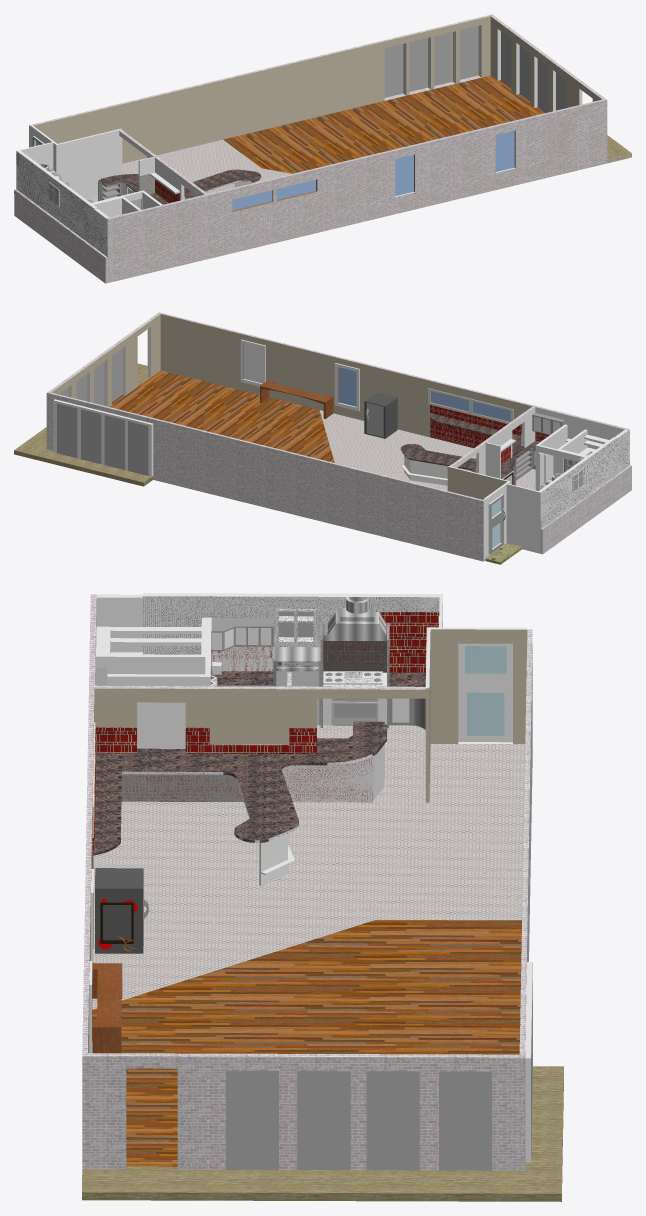
The model's file is Restaurant.glb.
The picture shows the model from 3 angles, top to bottom: view 1: azimuth 30°, elevation 25°; view 2: azimuth 150°, elevation 25°; view 3: azimuth 270°, elevation 25°; orthographic projection. The views are drawn at different scales.
Parts seen in each view (by area): view 1: SketchUp.181, SketchUp.060, SketchUp.275, SketchUp.022, SketchUp.044, SketchUp.129, SketchUp.247, SketchUp.263, SketchUp.107, SketchUp.183, SketchUp.103, SketchUp.182 (+9 smaller); view 2: SketchUp.247, SketchUp.060, SketchUp.275, SketchUp.022, SketchUp.129, SketchUp.044, SketchUp.263, SketchUp.065, SketchUp.107, SketchUp.130, SketchUp.182, SketchUp.103 (+19 smaller); view 3: SketchUp.129, SketchUp.275, SketchUp.247, SketchUp.065, SketchUp.060, SketchUp.022, SketchUp.107, SketchUp.045, SketchUp.255, SketchUp.128, SketchUp.054, SketchUp.236 (+17 smaller).
Boxes of the visible parts, x1,y1,x2,y2 form: SketchUp.181: [105, 100, 607, 283]; SketchUp.060: [33, 16, 602, 163]; SketchUp.275: [223, 75, 544, 173]; SketchUp.022: [16, 125, 204, 218]; SketchUp.044: [16, 151, 107, 256]; SketchUp.129: [85, 139, 291, 201]; SketchUp.247: [29, 14, 606, 219]; SketchUp.263: [14, 190, 107, 283]; SketchUp.107: [99, 169, 261, 204]; SketchUp.183: [384, 44, 403, 97]; SketchUp.103: [434, 32, 452, 85]; SketchUp.182: [460, 26, 478, 79]; SketchUp.247: [46, 312, 629, 561]; SketchUp.060: [51, 314, 531, 499]; SketchUp.275: [110, 370, 334, 462]; SketchUp.022: [448, 407, 627, 561]; SketchUp.129: [319, 410, 535, 490]; SketchUp.044: [540, 429, 629, 528]; SketchUp.263: [540, 465, 631, 554]; SketchUp.065: [14, 363, 153, 486]; SketchUp.107: [400, 413, 539, 478]; SketchUp.130: [53, 399, 153, 476]; SketchUp.182: [57, 403, 77, 458]; SketchUp.103: [81, 409, 101, 463]; SketchUp.129: [92, 725, 525, 1009]; SketchUp.275: [92, 920, 521, 1166]; SketchUp.247: [82, 594, 532, 1170]; SketchUp.065: [82, 1066, 563, 1201]; SketchUp.060: [88, 629, 527, 1053]; SketchUp.022: [95, 593, 527, 748]; SketchUp.107: [92, 721, 387, 855]; SketchUp.045: [143, 596, 439, 654]; SketchUp.255: [366, 1071, 419, 1170]; SketchUp.128: [297, 1071, 350, 1169]; SketchUp.054: [439, 1071, 491, 1170]; SketchUp.236: [226, 1071, 278, 1169].
Size of the model in its own units: 166 by 19.49 by 69.51.
Materials: 34 (15 with a texture image).
